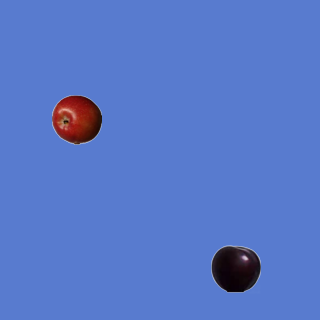Apple Braeburn: (51, 94, 101, 144)
Cherry Wax Black: (210, 243, 260, 293)
